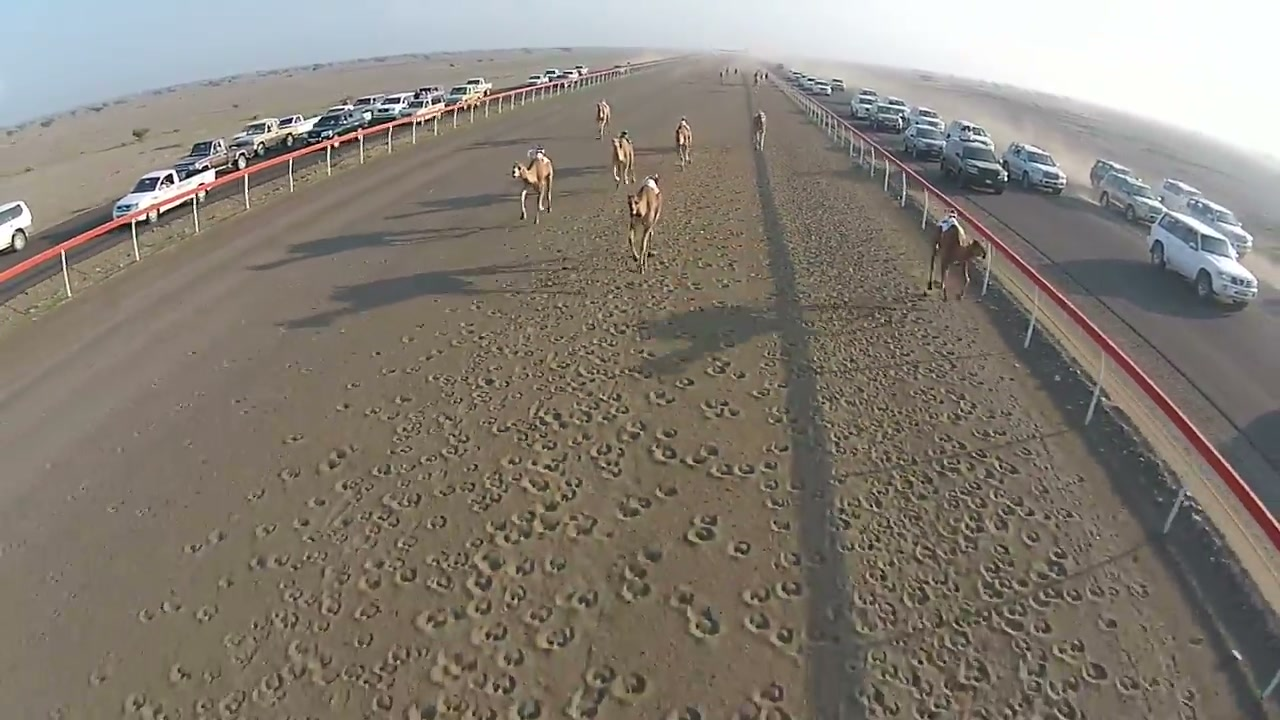animal_footprint: (72, 89, 1229, 719), (746, 133, 1217, 716), (344, 300, 787, 663)
